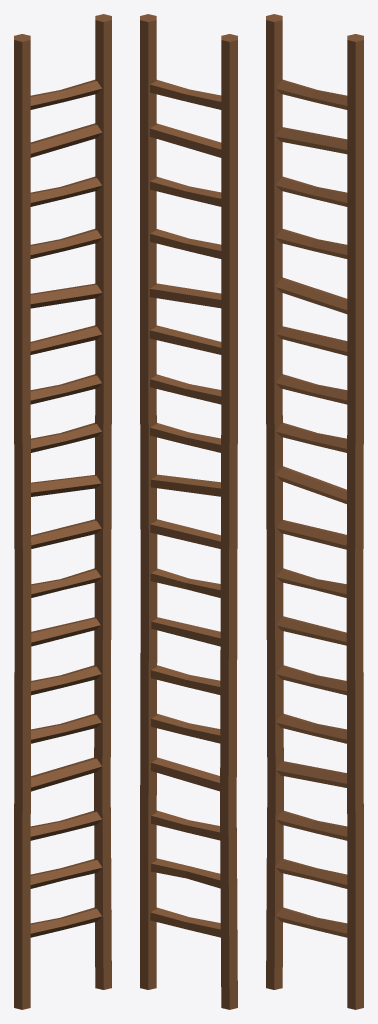
File: ladder-wood.glb
3 views of the same model, side by side, from view 1: azimuth 30°, elevation 25°; view 2: azimuth 150°, elevation 25°; view 3: azimuth 330°, elevation 25° (orthographic).
Parts seen in each view (by area): view 1: ladder_wood; view 2: ladder_wood; view 3: ladder_wood.
Part boxes in pixels (left/top/right/bottom): ladder_wood: left=14, top=14, right=111, bottom=1009; ladder_wood: left=140, top=14, right=237, bottom=1009; ladder_wood: left=266, top=14, right=363, bottom=1009.
Size of the model in its own units: 0.8325 by 7.86 by 0.131.
Materials: 1 (1 with a texture image).
